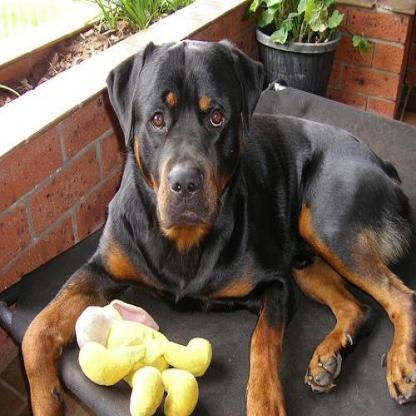Rottweiler: (20, 38, 414, 414)
